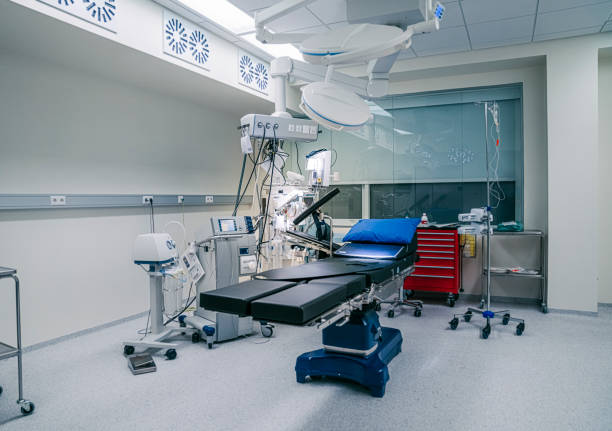bedside_monitor: (216, 218, 253, 234)
iv_pole: (467, 93, 506, 360)
medical_drawer: (395, 220, 459, 305)
operating_bed: (197, 217, 431, 400)
surgical_light: (298, 20, 414, 69), (296, 78, 375, 134)
utility_cart: (1, 256, 38, 431), (481, 228, 552, 315)
